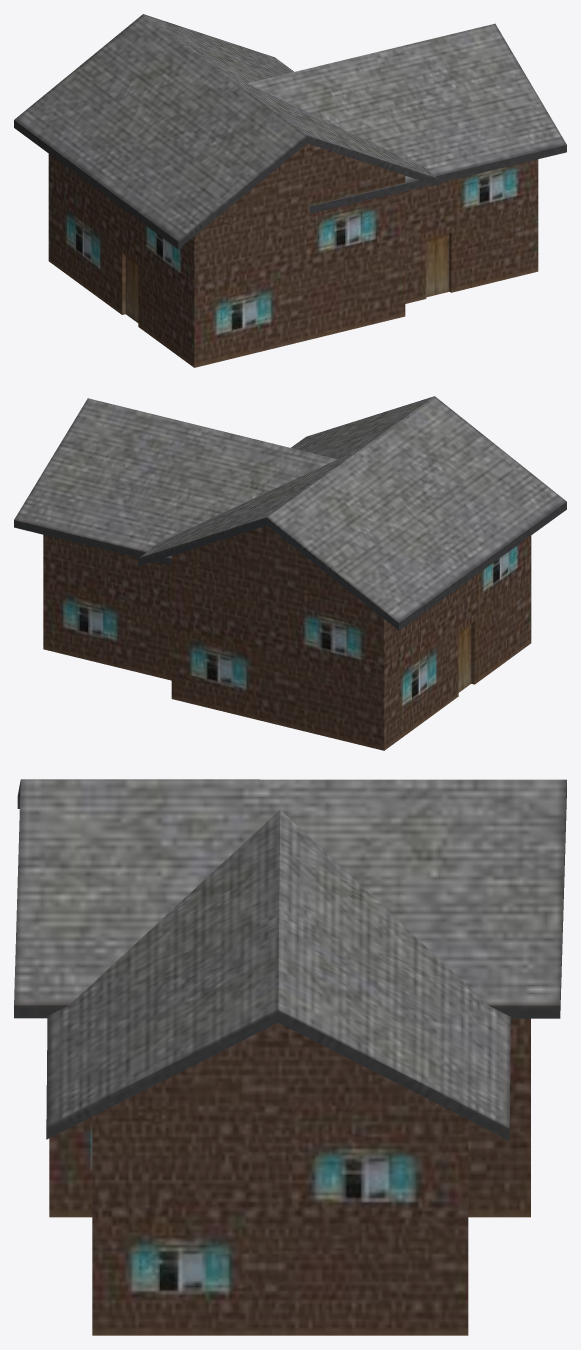
The model's file is Rumah 5.fbx.
3 views of the same model, one above another, from view 1: azimuth 30°, elevation 25°; view 2: azimuth 150°, elevation 25°; view 3: azimuth 270°, elevation 25° (orthographic). The views are drawn at different scales.
Visible parts, largest first — view 1: texture 1.005; view 2: texture 1.005; view 3: texture 1.005.
Part boxes in pixels (left/top/right/bottom): texture 1.005: left=14, top=14, right=566, bottom=367; texture 1.005: left=14, top=396, right=566, bottom=750; texture 1.005: left=14, top=779, right=566, bottom=1335.
Bounding box in the file's own units: 1924 × 984 × 1397.
Materials: 1 (1 with a texture image).
